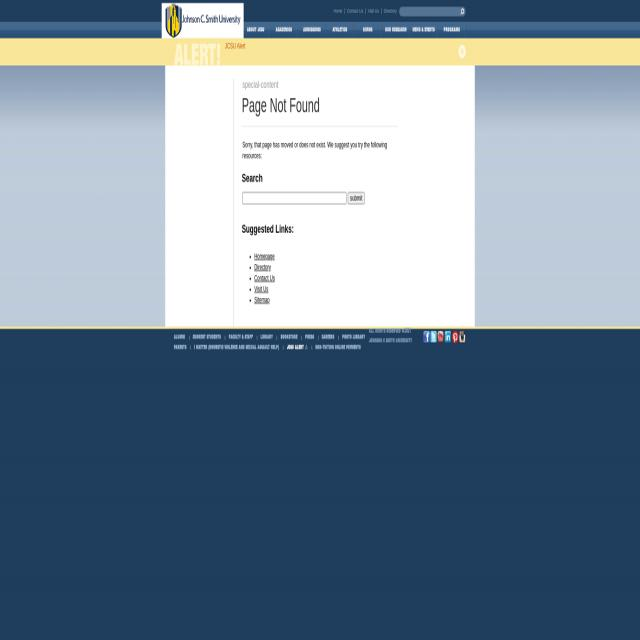button: (162, 2, 244, 38), (242, 22, 270, 39), (270, 22, 298, 39), (298, 22, 326, 39), (326, 22, 354, 39), (354, 22, 382, 39), (382, 22, 410, 39), (410, 22, 438, 39), (438, 22, 466, 39), (347, 192, 365, 204), (437, 332, 444, 344), (445, 332, 451, 344), (452, 332, 458, 344), (459, 332, 465, 344), (424, 332, 430, 342), (431, 332, 436, 342), (460, 9, 464, 16)
field: (242, 192, 346, 204), (402, 6, 458, 16)
